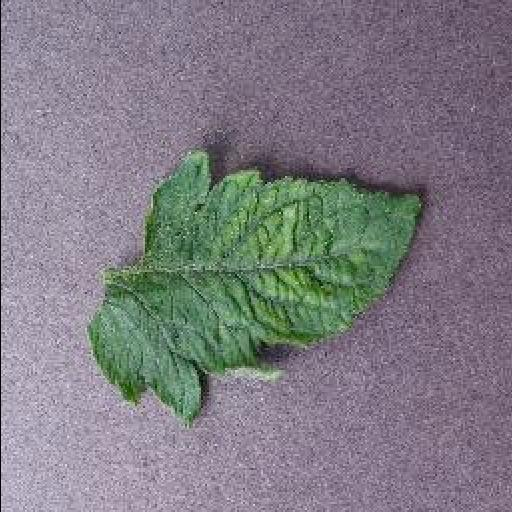disease_tomato: (89, 150, 427, 432)
